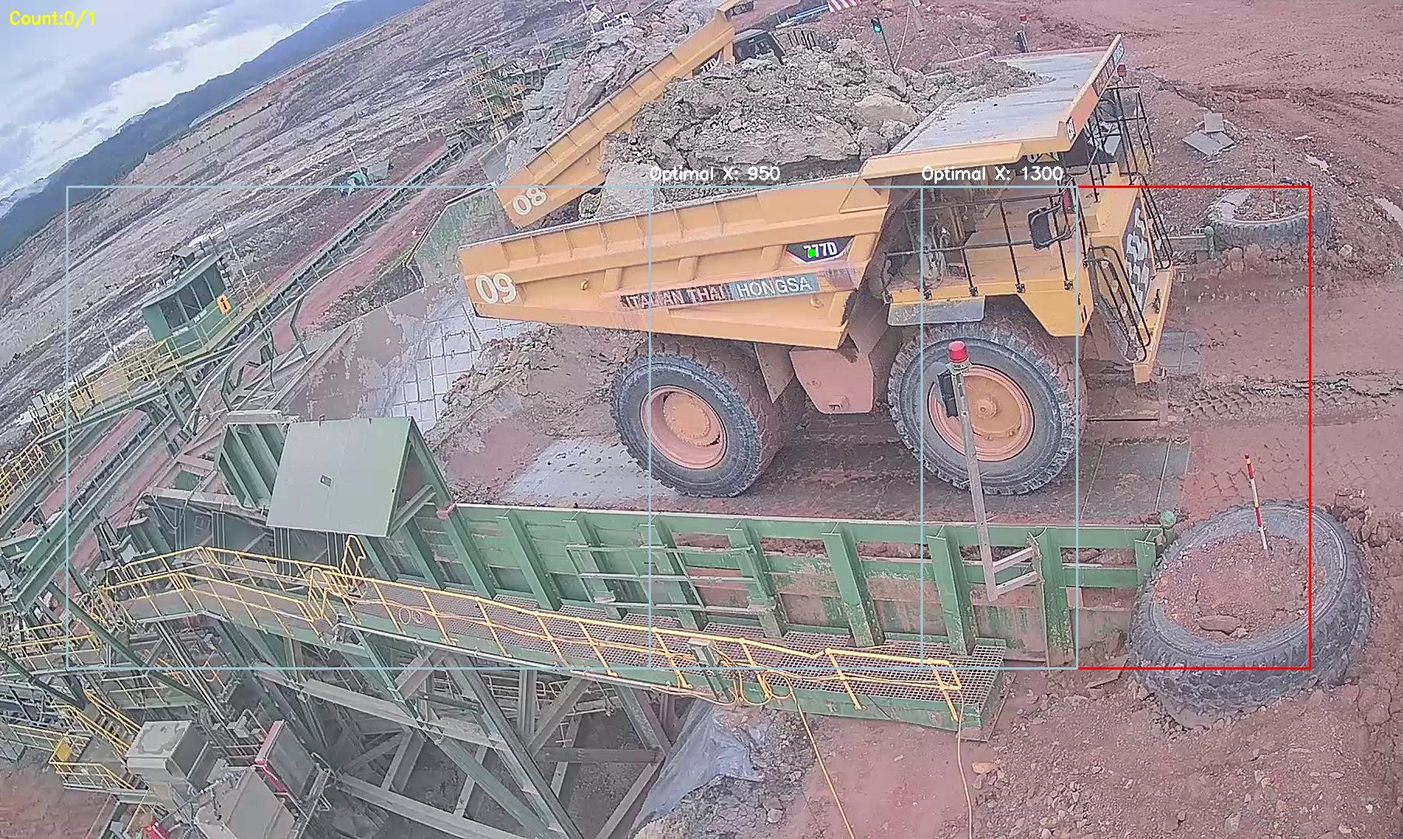company: (608, 272, 832, 315)
full_load: (596, 41, 903, 223)
mining_truck: (454, 26, 1195, 492)
tail_number: (466, 256, 524, 315)
truck_size: (784, 232, 856, 266)
